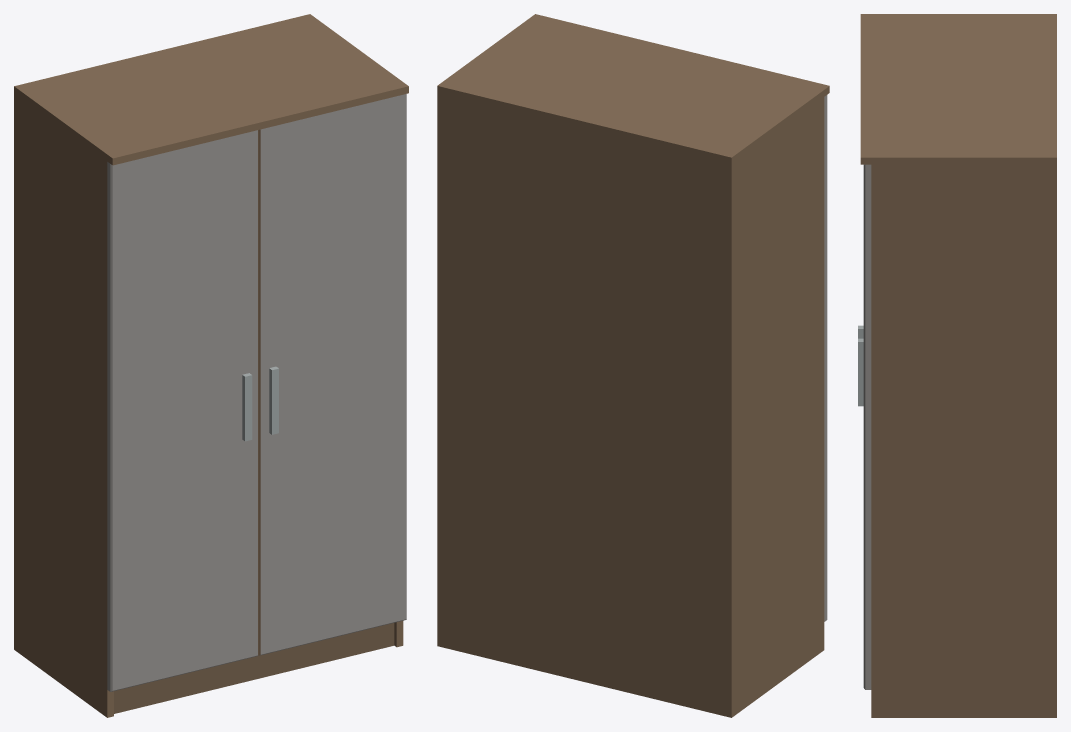
The model's file is SM_Props_Interior_House_Room_Wardbrobe_01.fbx.
The picture shows the model from 3 angles, left to right: view 1: azimuth 30°, elevation 25°; view 2: azimuth 150°, elevation 25°; view 3: azimuth 270°, elevation 25°; orthographic projection.
Parts seen in each view (by area): view 1: SM_Props_Interior_House_Room_Wardbrobe_01; view 2: SM_Props_Interior_House_Room_Wardbrobe_01; view 3: SM_Props_Interior_House_Room_Wardbrobe_01.
Part boxes in pixels (box(x1,y1,x2,y2)): SM_Props_Interior_House_Room_Wardbrobe_01: box(14, 14, 408, 717); SM_Props_Interior_House_Room_Wardbrobe_01: box(437, 14, 829, 717); SM_Props_Interior_House_Room_Wardbrobe_01: box(858, 14, 1056, 717).
Size of the model in its own units: 110 by 200 by 64.32.
